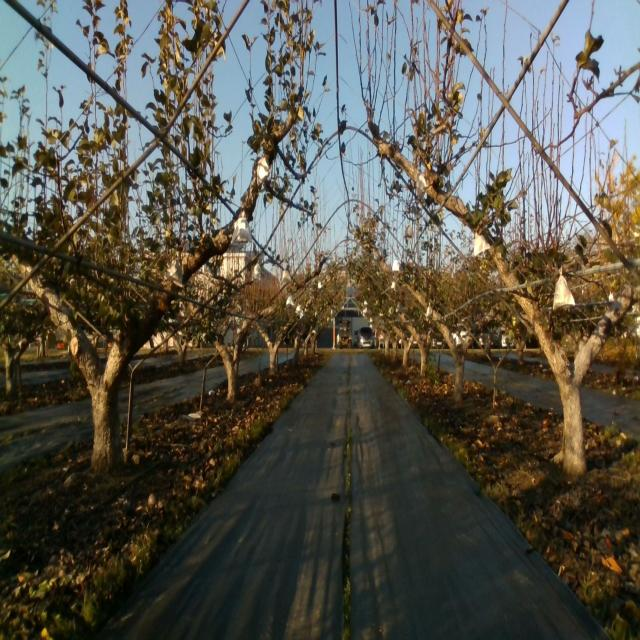pearbags: (552, 264, 576, 312), (231, 209, 253, 244), (164, 254, 184, 288), (474, 230, 492, 258), (255, 155, 270, 188), (415, 172, 427, 202)
